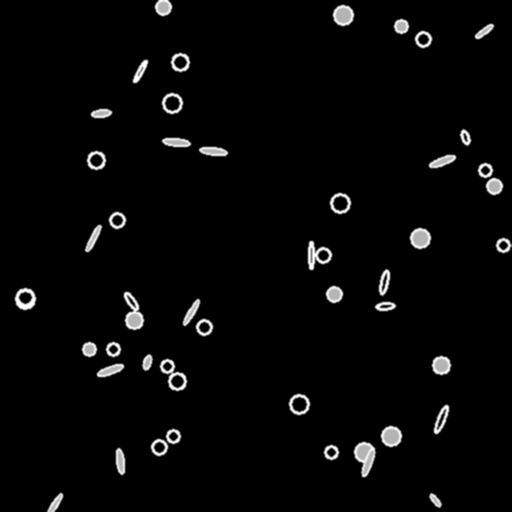pseudomonas: (84, 224, 102, 252), (360, 447, 376, 477), (182, 299, 200, 325), (428, 153, 456, 169), (433, 405, 449, 433), (96, 363, 124, 377), (132, 59, 148, 83), (45, 493, 63, 512), (123, 291, 139, 311), (475, 23, 493, 39), (162, 137, 190, 147), (200, 146, 226, 156), (115, 448, 125, 474), (379, 270, 389, 294), (428, 493, 442, 507), (142, 354, 152, 370), (375, 302, 395, 310), (91, 109, 111, 117), (460, 129, 470, 145), (308, 242, 314, 268)
synechocystis: (331, 194, 349, 212), (355, 443, 373, 461), (290, 395, 308, 413), (334, 6, 352, 24), (411, 229, 429, 247), (382, 427, 400, 445), (163, 94, 181, 112), (16, 290, 34, 308), (17, 289, 33, 305), (126, 312, 142, 328), (433, 357, 449, 373), (169, 373, 185, 389), (172, 54, 188, 70), (88, 152, 104, 168), (316, 248, 330, 262), (487, 179, 501, 193), (110, 213, 124, 227), (416, 32, 430, 46), (327, 287, 341, 301), (156, 0, 170, 14), (152, 440, 166, 454), (197, 320, 211, 334), (83, 343, 95, 355), (167, 430, 179, 442), (107, 343, 119, 355), (497, 239, 509, 251), (161, 360, 173, 372), (395, 20, 407, 32), (479, 164, 491, 176), (325, 446, 337, 458)
